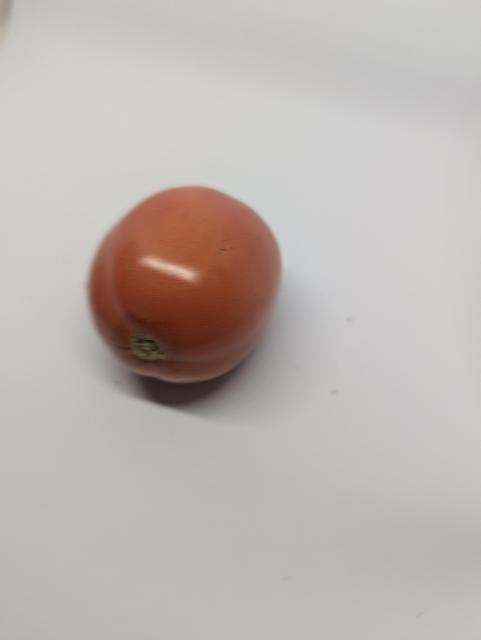red: (82, 182, 290, 404)
